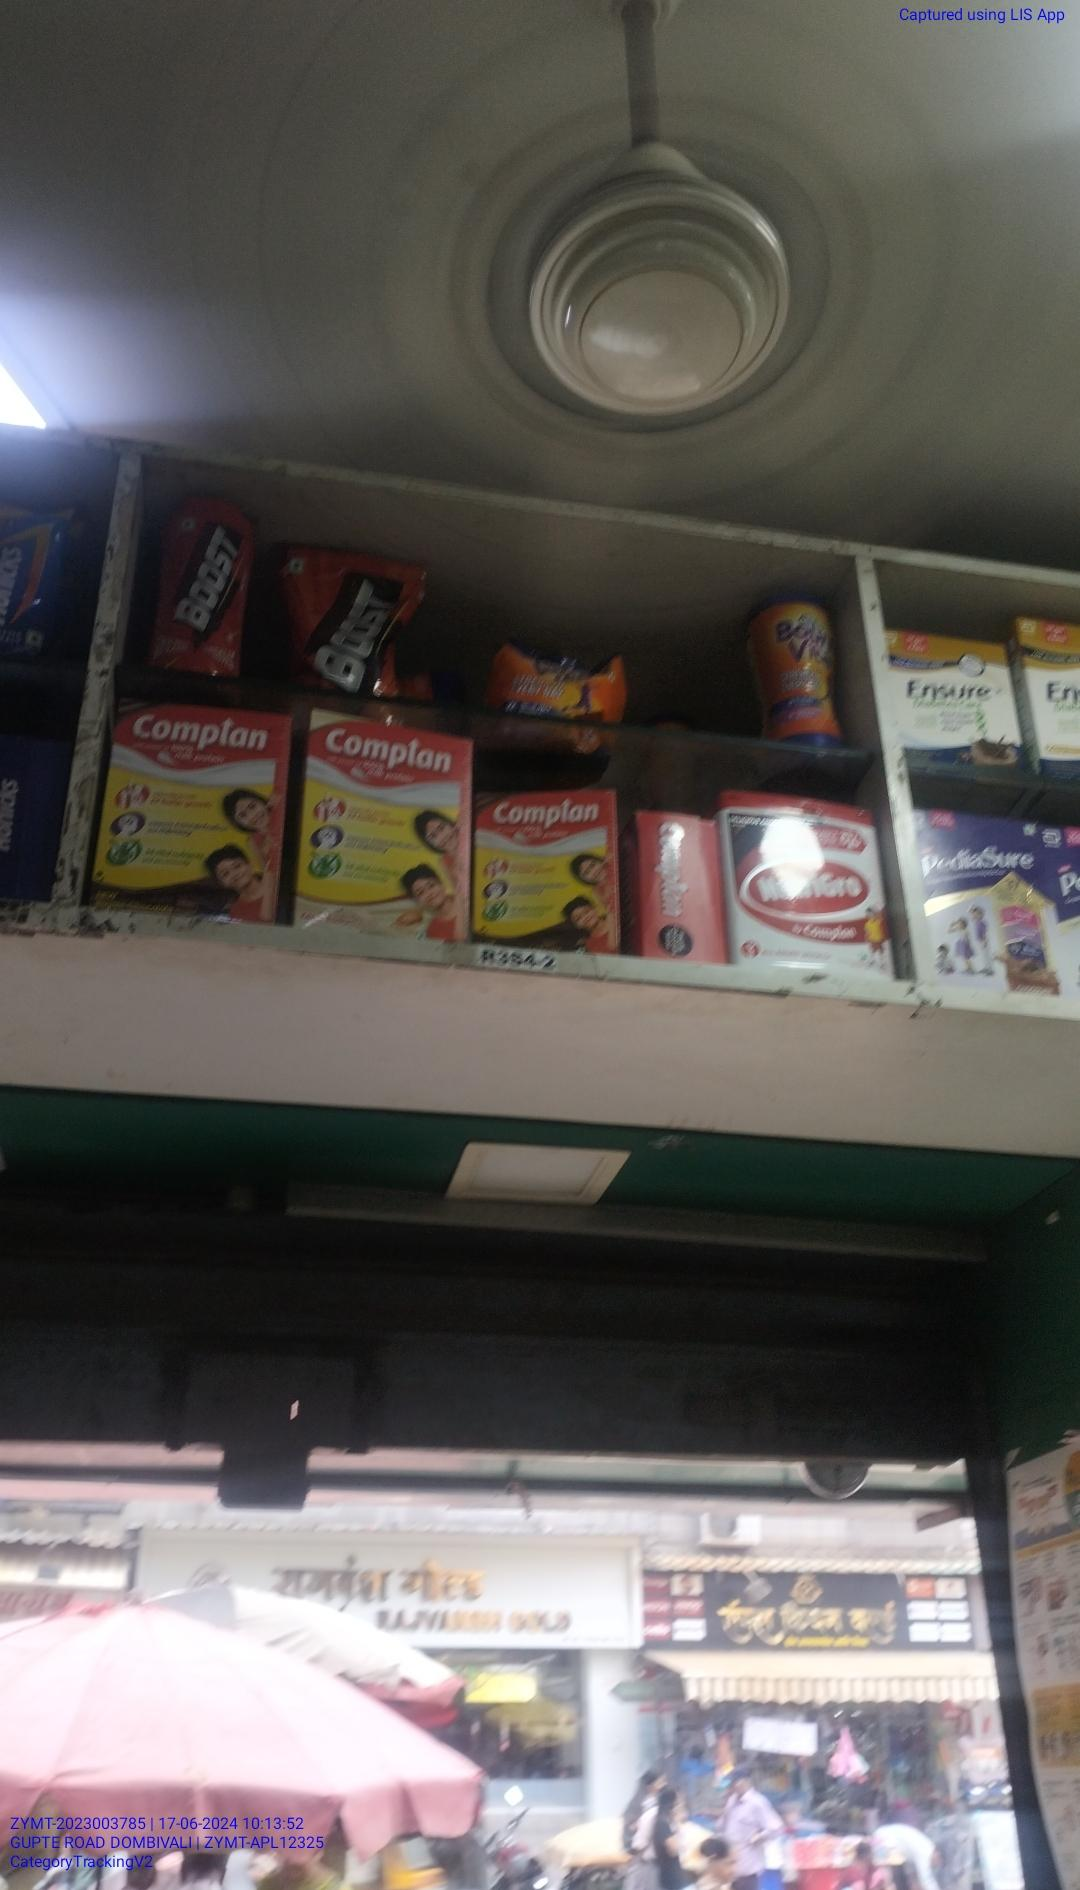COMPLAN_CHOCOLATE_200_GMS_PACK: (478, 794, 613, 955)
COMPLAN_CHOCOLATE_500_GMS_PACK: (101, 700, 279, 919)
COMPLAN_KESAR_BADAM_500_GMS_PACK: (302, 709, 467, 941)
PEDIASURE_VANILLA_500_G_PACK: (915, 800, 1050, 989)
